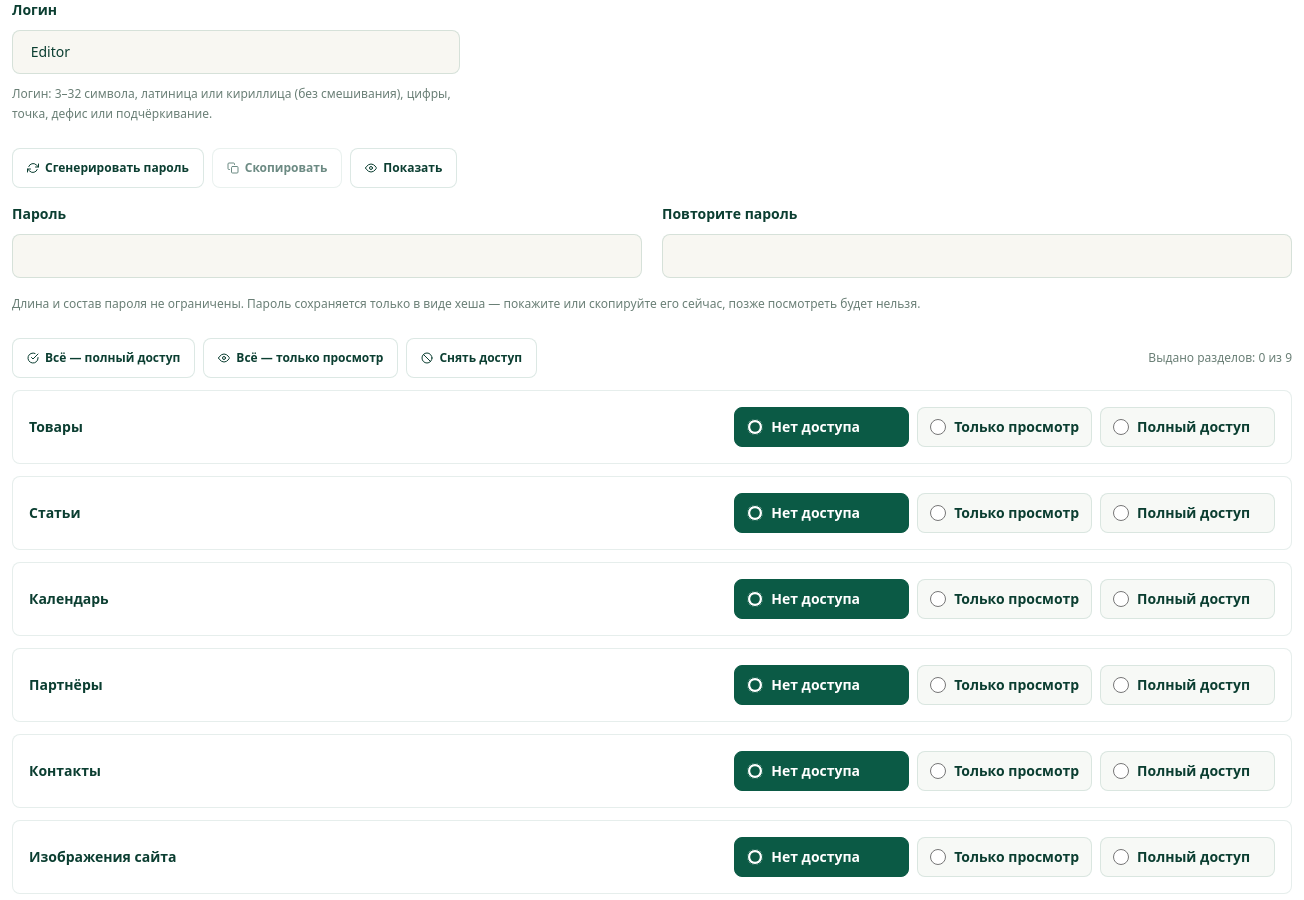
Test: AdminUserCreateForm › reports a login that is already taken and blocks the submit
Replace the text in the field named "username" with " Editor " at {"x": 236, "y": 52}, box [12, 30, 460, 74]
(page scrolled)
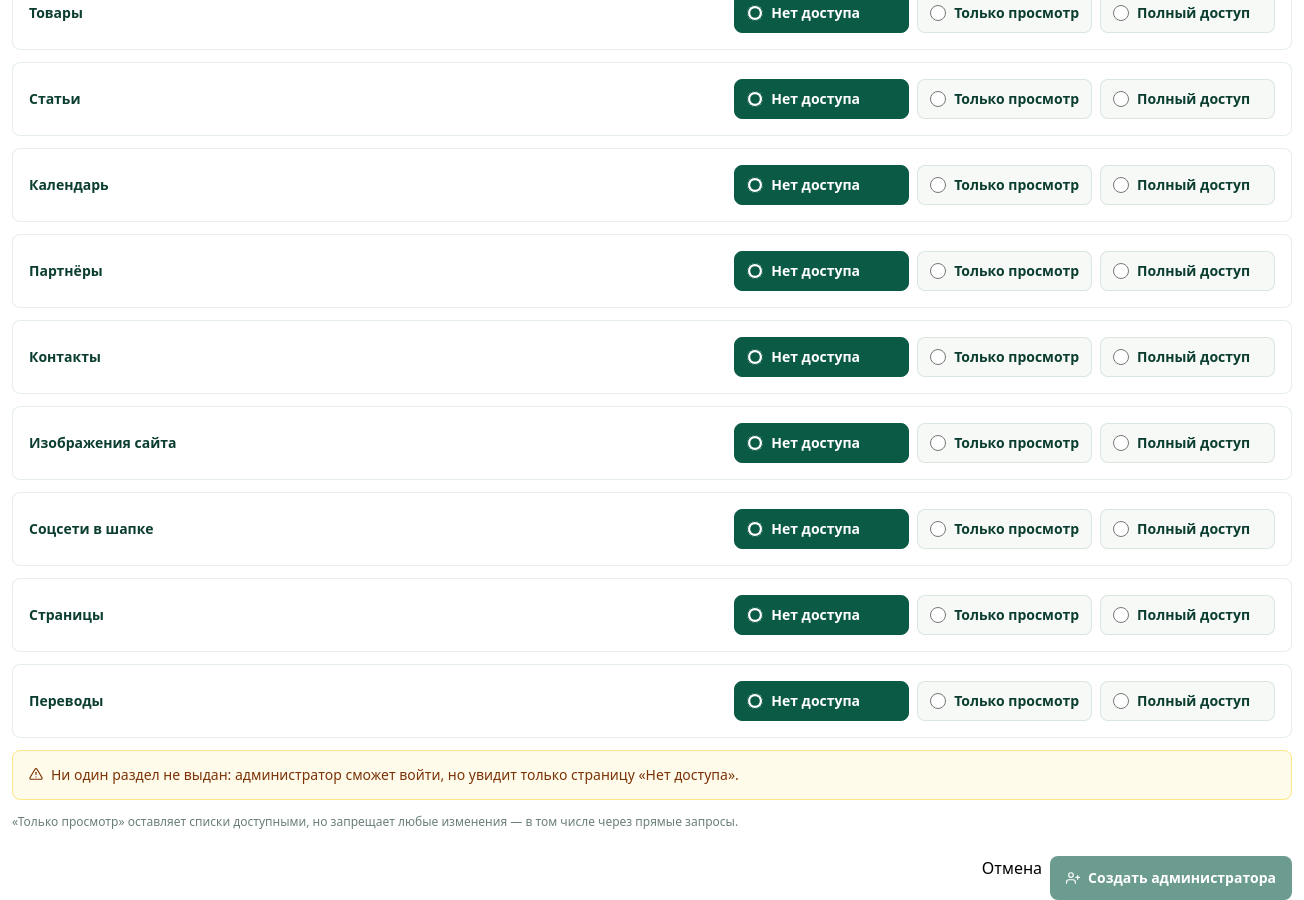
Check: the button "Создать администратора" is disabled, box [1050, 856, 1292, 899]
